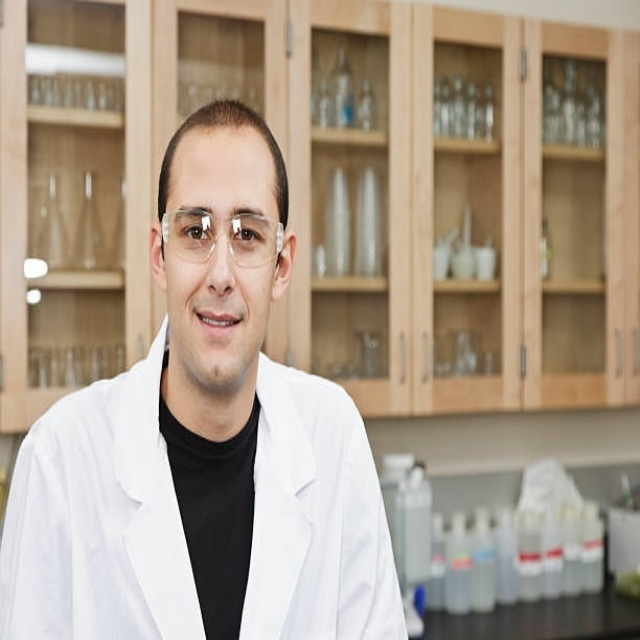Gafas: (161, 208, 284, 268)
Sin_mascara: (188, 298, 248, 367)
